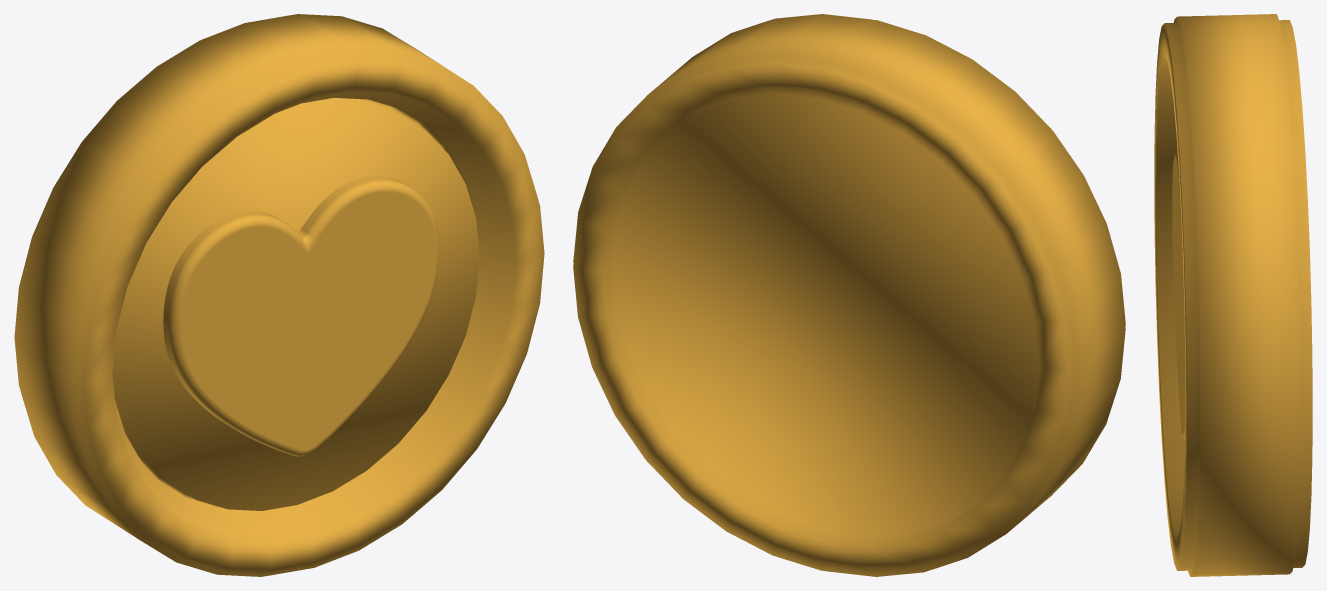
The model's file is heart-coin.glb.
3 views of the same model, side by side, from view 1: azimuth 30°, elevation 25°; view 2: azimuth 150°, elevation 25°; view 3: azimuth 270°, elevation 25° (orthographic).
Visible parts, largest first — view 1: coin.010; view 2: coin.010; view 3: coin.010.
Boxes of the visible parts, x1,y1,x2,y2 form: coin.010: (14, 14, 544, 576); coin.010: (573, 14, 1125, 576); coin.010: (1154, 14, 1312, 576).
Bounding box in the file's own units: 0.4695 × 0.4654 × 0.1314.
